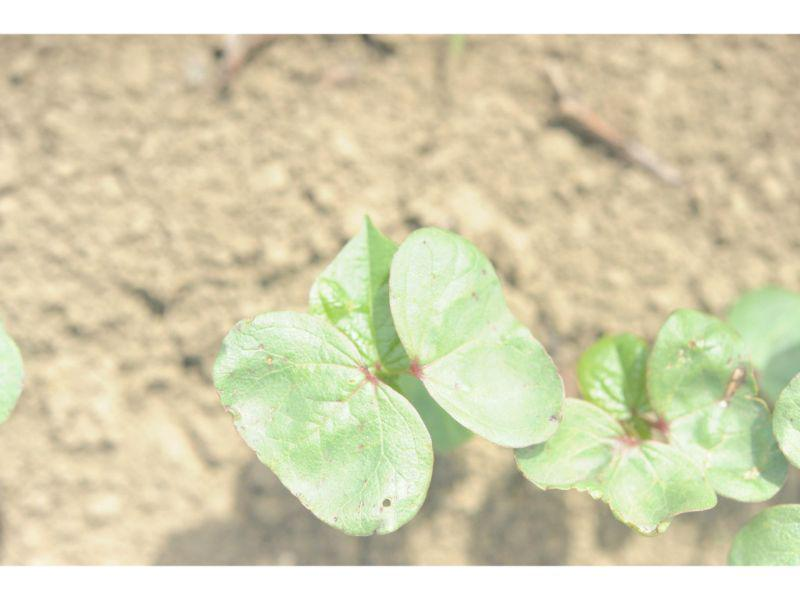cotton: (213, 211, 563, 535), (515, 287, 800, 534)
